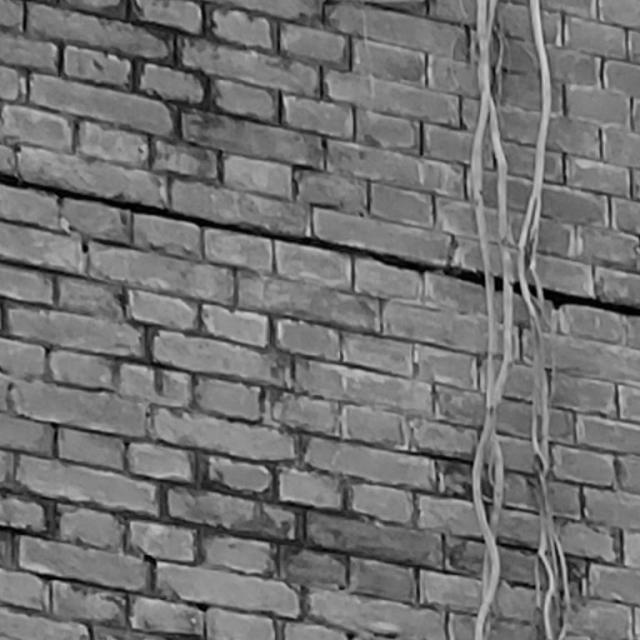crack: (1, 171, 640, 317)
